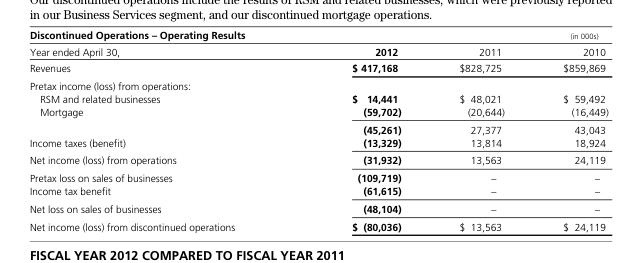table: (28, 28, 607, 232)
table column: (28, 28, 297, 232), (297, 28, 429, 232), (429, 28, 533, 232), (533, 28, 607, 232)
table column header: (28, 28, 607, 59)
table projected row header: (28, 77, 607, 92)
table row: (28, 28, 607, 59), (28, 59, 607, 77), (28, 150, 607, 168), (28, 199, 607, 217), (28, 104, 607, 120), (28, 168, 607, 184), (28, 77, 607, 92), (28, 120, 607, 135), (28, 135, 607, 150), (28, 184, 607, 199), (28, 217, 607, 232), (28, 92, 607, 104)
